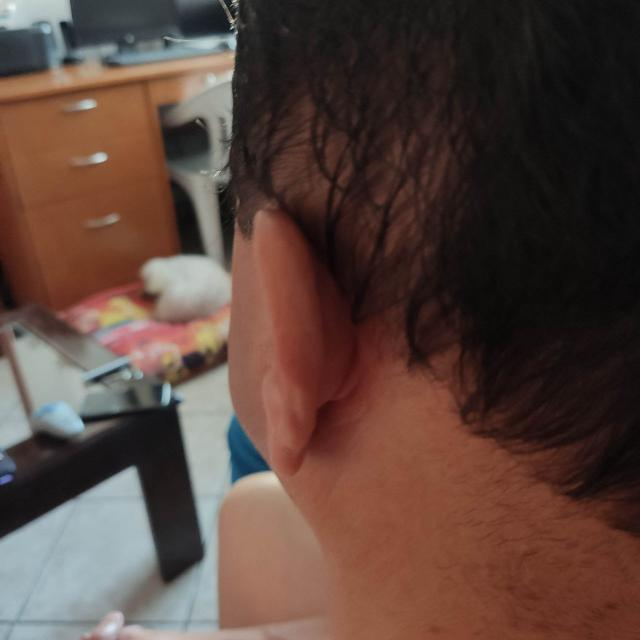ear: (254, 208, 355, 476)
